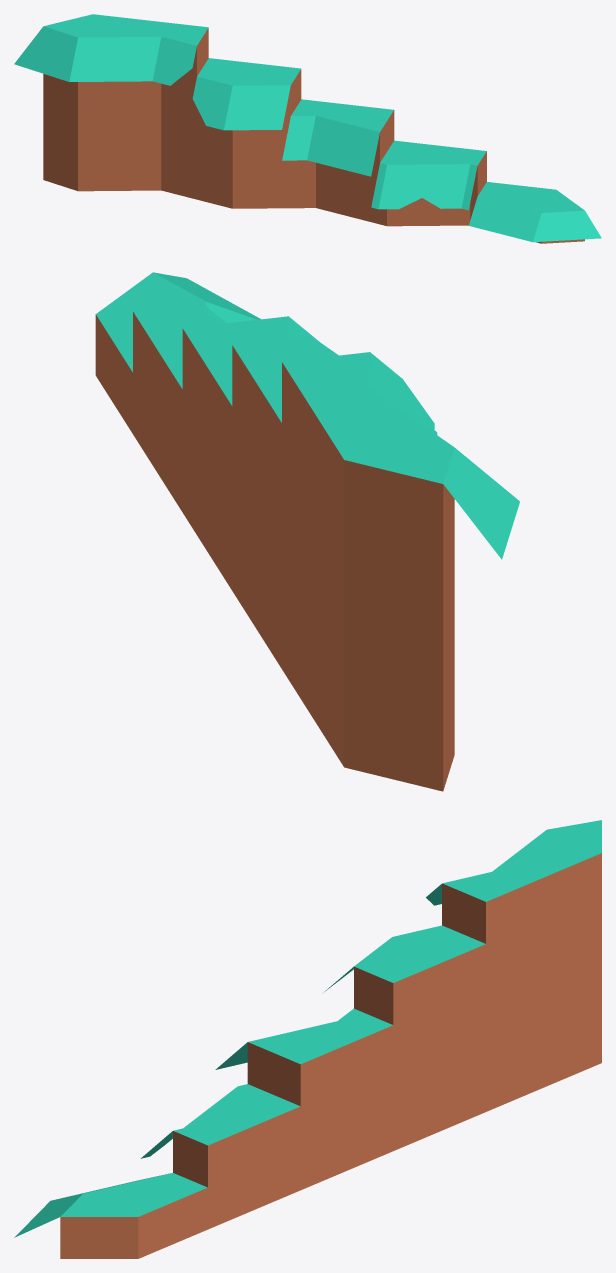
File: cliff_stairBorderDiagonal_lower_left_rock.fbx
3 views of the same model, one above another, from view 1: azimuth 30°, elevation 25°; view 2: azimuth 150°, elevation 25°; view 3: azimuth 270°, elevation 25° (orthographic). The views are drawn at different scales.
Parts seen in each view (by area): view 1: cliff_topDiagonal_rock; view 2: cliff_topDiagonal_rock; view 3: cliff_topDiagonal_rock.
Part boxes in pixels (bbox=[...]): cliff_topDiagonal_rock: bbox=[14, 14, 601, 243]; cliff_topDiagonal_rock: bbox=[95, 272, 519, 791]; cliff_topDiagonal_rock: bbox=[14, 820, 601, 1258].
Bounding box in the file's own units: 12.68 × 5 × 12.68.
